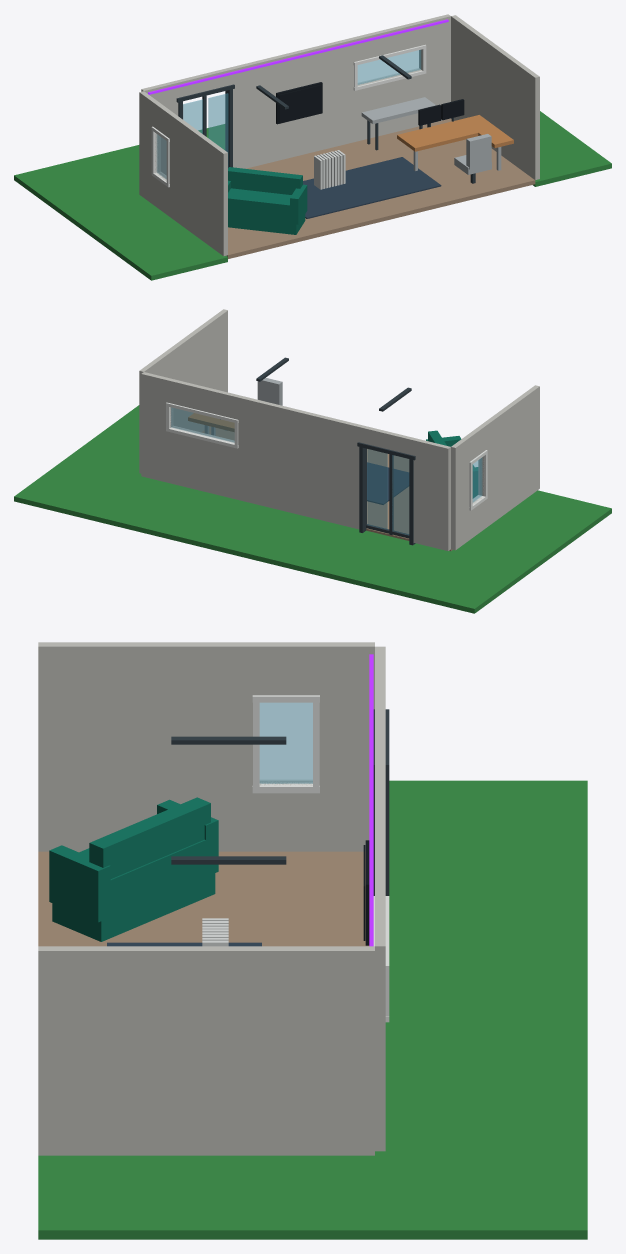
Rendered from study.glb.
3 renders of one model, top to bottom at view 1: azimuth 30°, elevation 25°; view 2: azimuth 150°, elevation 25°; view 3: azimuth 270°, elevation 25°, orthographic. The views are drawn at different scales.
Parts seen in each view (by area): view 1: Architecture_Floor, Architecture_Wall_Right, Outside_Lawn_Left, Architecture_Wall_Back_2_1, Outside_Lawn_Front, Furniture_Rug_REPLACEABLE, Outside_Lawn_Right, Furniture_Sofa_Base, Architecture_Wall_Back_3_1, Architecture_Wall_Left_2_1, Architecture_Wall_Back_2_4, Architecture_Wall_Back_2_2 (+31 smaller); view 2: Outside_Lawn_Front, Architecture_Wall_Back_2_1, Outside_Lawn_Left, Architecture_Wall_Right, Architecture_Wall_Back_3_1, Architecture_Wall_Back_2_4, Architecture_Wall_Back_2_2, Outside_Lawn_Right, Architecture_Wall_Left_2_1, Architecture_Floor, Architecture_Wall_Back_0_1, Architecture_Wall_Left_2_0 (+23 smaller); view 3: Outside_Lawn_Front, Architecture_Wall_Right, Outside_Lawn_Right, Architecture_Floor, Architecture_Wall_Left_2_1, Architecture_Wall_Left_2_2, Architecture_Wall_Left_2_0, Furniture_Sofa_Base, Furniture_Sofa_Back, Architecture_Wall_Left_0_1, Window_Left_Glass, Architecture_Wall_Left_0_0 (+11 smaller).
Boxes of the visible parts, x1=… form: Architecture_Floor: x1=226, y1=118, x2=535, y2=258; Architecture_Wall_Right: x1=451, y1=15, x2=539, y2=180; Outside_Lawn_Left: x1=67, y1=196, x2=227, y2=280; Architecture_Wall_Back_2_1: x1=233, y1=87, x2=356, y2=168; Outside_Lawn_Front: x1=14, y1=124, x2=225, y2=218; Furniture_Rug_REPLACEABLE: x1=303, y1=157, x2=441, y2=218; Outside_Lawn_Right: x1=533, y1=111, x2=611, y2=186; Furniture_Sofa_Base: x1=228, y1=188, x2=305, y2=234; Architecture_Wall_Back_3_1: x1=356, y1=69, x2=422, y2=141; Architecture_Wall_Left_2_1: x1=169, y1=142, x2=227, y2=223; Architecture_Wall_Back_2_4: x1=228, y1=37, x2=356, y2=87; Architecture_Wall_Back_2_2: x1=233, y1=65, x2=353, y2=116; Outside_Lawn_Front: x1=14, y1=457, x2=527, y2=613; Architecture_Wall_Back_2_1: x1=235, y1=445, x2=359, y2=529; Outside_Lawn_Left: x1=451, y1=490, x2=611, y2=574; Architecture_Wall_Right: x1=139, y1=309, x2=227, y2=473; Architecture_Wall_Back_3_1: x1=170, y1=426, x2=235, y2=499; Architecture_Wall_Back_2_4: x1=235, y1=395, x2=363, y2=445; Architecture_Wall_Back_2_2: x1=238, y1=423, x2=359, y2=474; Outside_Lawn_Right: x1=67, y1=405, x2=141, y2=475; Architecture_Wall_Left_2_1: x1=479, y1=414, x2=539, y2=495; Architecture_Floor: x1=201, y1=426, x2=452, y2=551; Architecture_Wall_Back_0_1: x1=413, y1=488, x2=450, y2=550; Architecture_Wall_Left_2_0: x1=484, y1=456, x2=539, y2=528; Outside_Lawn_Front: x1=375, y1=780, x2=587, y2=1239; Architecture_Wall_Right: x1=38, y1=946, x2=374, y2=1155; Outside_Lawn_Right: x1=38, y1=1155, x2=374, y2=1239; Architecture_Floor: x1=38, y1=851, x2=368, y2=946; Architecture_Wall_Left_2_1: x1=38, y1=701, x2=252, y2=785; Architecture_Wall_Left_2_2: x1=38, y1=642, x2=259, y2=701; Architecture_Wall_Left_2_0: x1=38, y1=785, x2=259, y2=851; Furniture_Sofa_Base: x1=52, y1=836, x2=215, y2=941; Furniture_Sofa_Back: x1=89, y1=797, x2=210, y2=878; Architecture_Wall_Left_0_1: x1=319, y1=701, x2=374, y2=785; Window_Left_Glass: x1=259, y1=702, x2=312, y2=783; Architecture_Wall_Left_0_0: x1=313, y1=785, x2=369, y2=851.
Bounding box in the file's own units: 12 × 2.72 × 6.2.
